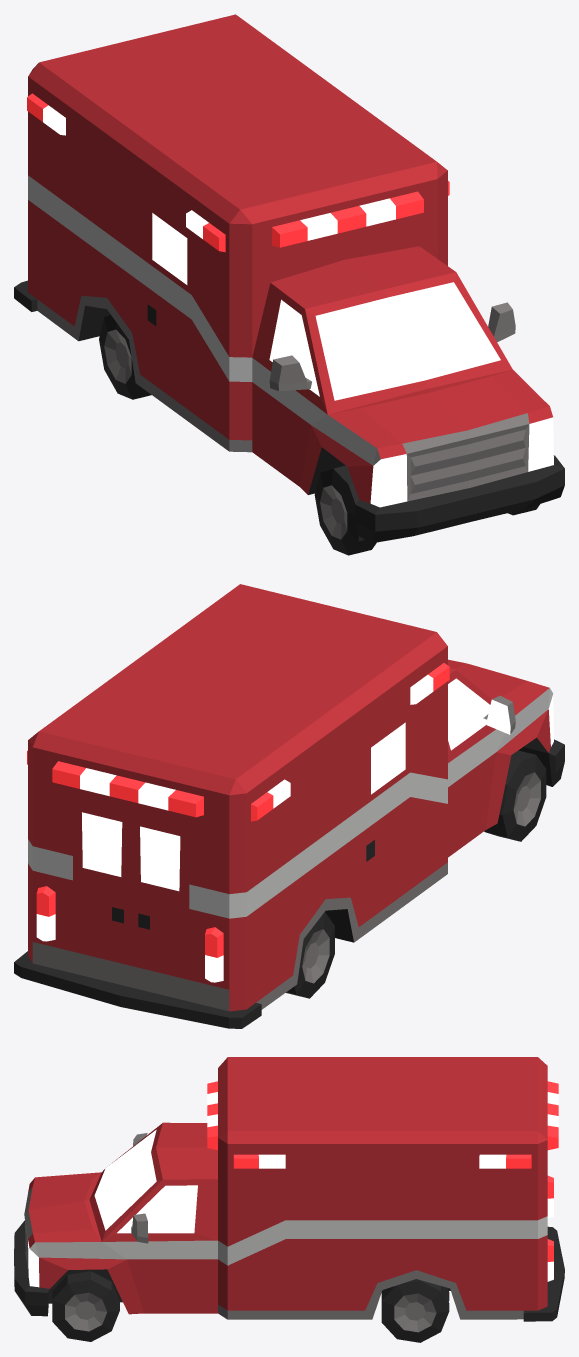
File: vehicles-car-firefighter-pickup.glb
3 renders of one model, top to bottom at view 1: azimuth 30°, elevation 25°; view 2: azimuth 150°, elevation 25°; view 3: azimuth 270°, elevation 25°, orthographic. The views are drawn at different scales.
Parts seen in each view (by area): view 1: car-firefighter-pickup-base, car-firefighter-pickup-wheel_FR, car-firefighter-pickup-wheel_BR; view 2: car-firefighter-pickup-base, car-firefighter-pickup-wheel_FR, car-firefighter-pickup-wheel_BR; view 3: car-firefighter-pickup-base, car-firefighter-pickup-wheel_FL, car-firefighter-pickup-wheel_BL.
Part boxes in pixels (left/top/right/bottom): car-firefighter-pickup-base: left=14, top=14, right=564, bottom=543; car-firefighter-pickup-wheel_FR: left=314, top=465, right=376, bottom=555; car-firefighter-pickup-wheel_BR: left=99, top=315, right=151, bottom=399; car-firefighter-pickup-base: left=14, top=584, right=564, bottom=1028; car-firefighter-pickup-wheel_FR: left=484, top=750, right=546, bottom=841; car-firefighter-pickup-wheel_BR: left=286, top=912, right=334, bottom=998; car-firefighter-pickup-base: left=14, top=1057, right=564, bottom=1321; car-firefighter-pickup-wheel_FL: left=52, top=1271, right=119, bottom=1341; car-firefighter-pickup-wheel_BL: left=381, top=1279, right=449, bottom=1342.
Bounding box in the file's own units: 2.43 × 2.66 × 6.24.
